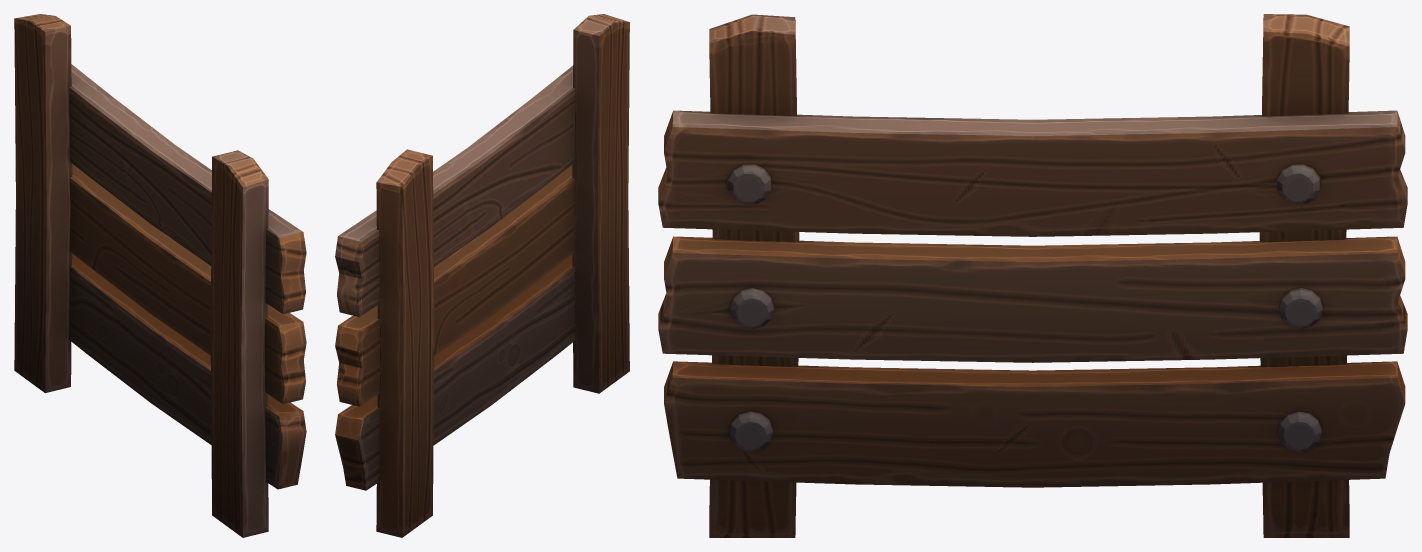
The model's file is stylized_wood.glb.
3 renders of one model, left to right at view 1: azimuth 30°, elevation 25°; view 2: azimuth 150°, elevation 25°; view 3: azimuth 270°, elevation 25°, orthographic. The views are drawn at different scales.
Parts seen in each view (by area): view 1: beam2_low, beam1_low, plank3_low, plank2_low, plank1_low; view 2: beam1_low, beam2_low, plank3_low, plank2_low, plank1_low; view 3: plank2_low, plank3_low, plank1_low, beam1_low, beam2_low, nail2_low, nail5_low, nail_low, nail4_low, nail1_low, nail3_low.
Boxes of the visible parts, x1,y1,x2,y2 form: beam2_low: [210, 150, 268, 537]; beam1_low: [14, 14, 72, 393]; plank3_low: [69, 64, 306, 314]; plank2_low: [70, 164, 306, 404]; plank1_low: [69, 253, 306, 489]; beam1_low: [376, 149, 434, 537]; beam2_low: [572, 14, 629, 393]; plank3_low: [335, 66, 575, 316]; plank2_low: [335, 165, 574, 406]; plank1_low: [335, 254, 575, 490]; plank2_low: [658, 236, 1407, 362]; plank3_low: [658, 110, 1407, 236]; plank1_low: [664, 361, 1405, 487]; beam1_low: [1259, 14, 1349, 537]; beam2_low: [709, 14, 799, 537]; nail2_low: [728, 164, 771, 204]; nail5_low: [1276, 164, 1320, 204]; nail_low: [730, 288, 774, 328]; nail4_low: [1277, 411, 1321, 452]; nail1_low: [729, 411, 773, 452]; nail3_low: [1279, 288, 1322, 328].
Bounding box in the file's own units: 0.1906 × 1.23 × 1.65.
Materials: 1 (1 with a texture image).
